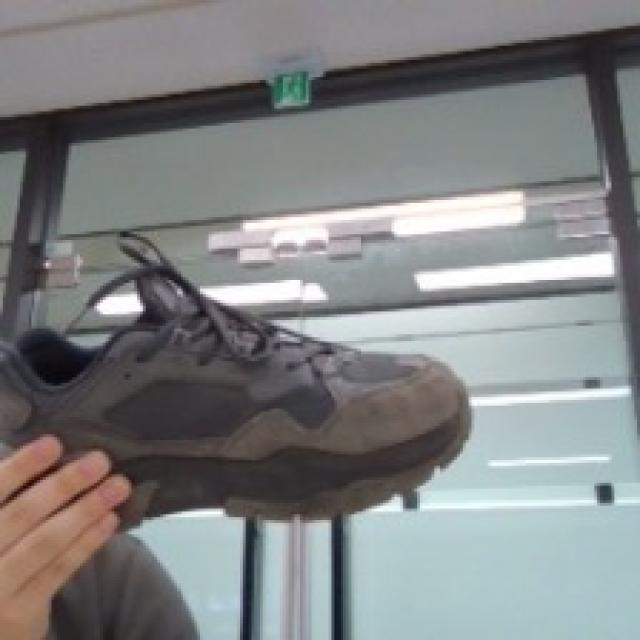shoe: (0, 252, 515, 543)
